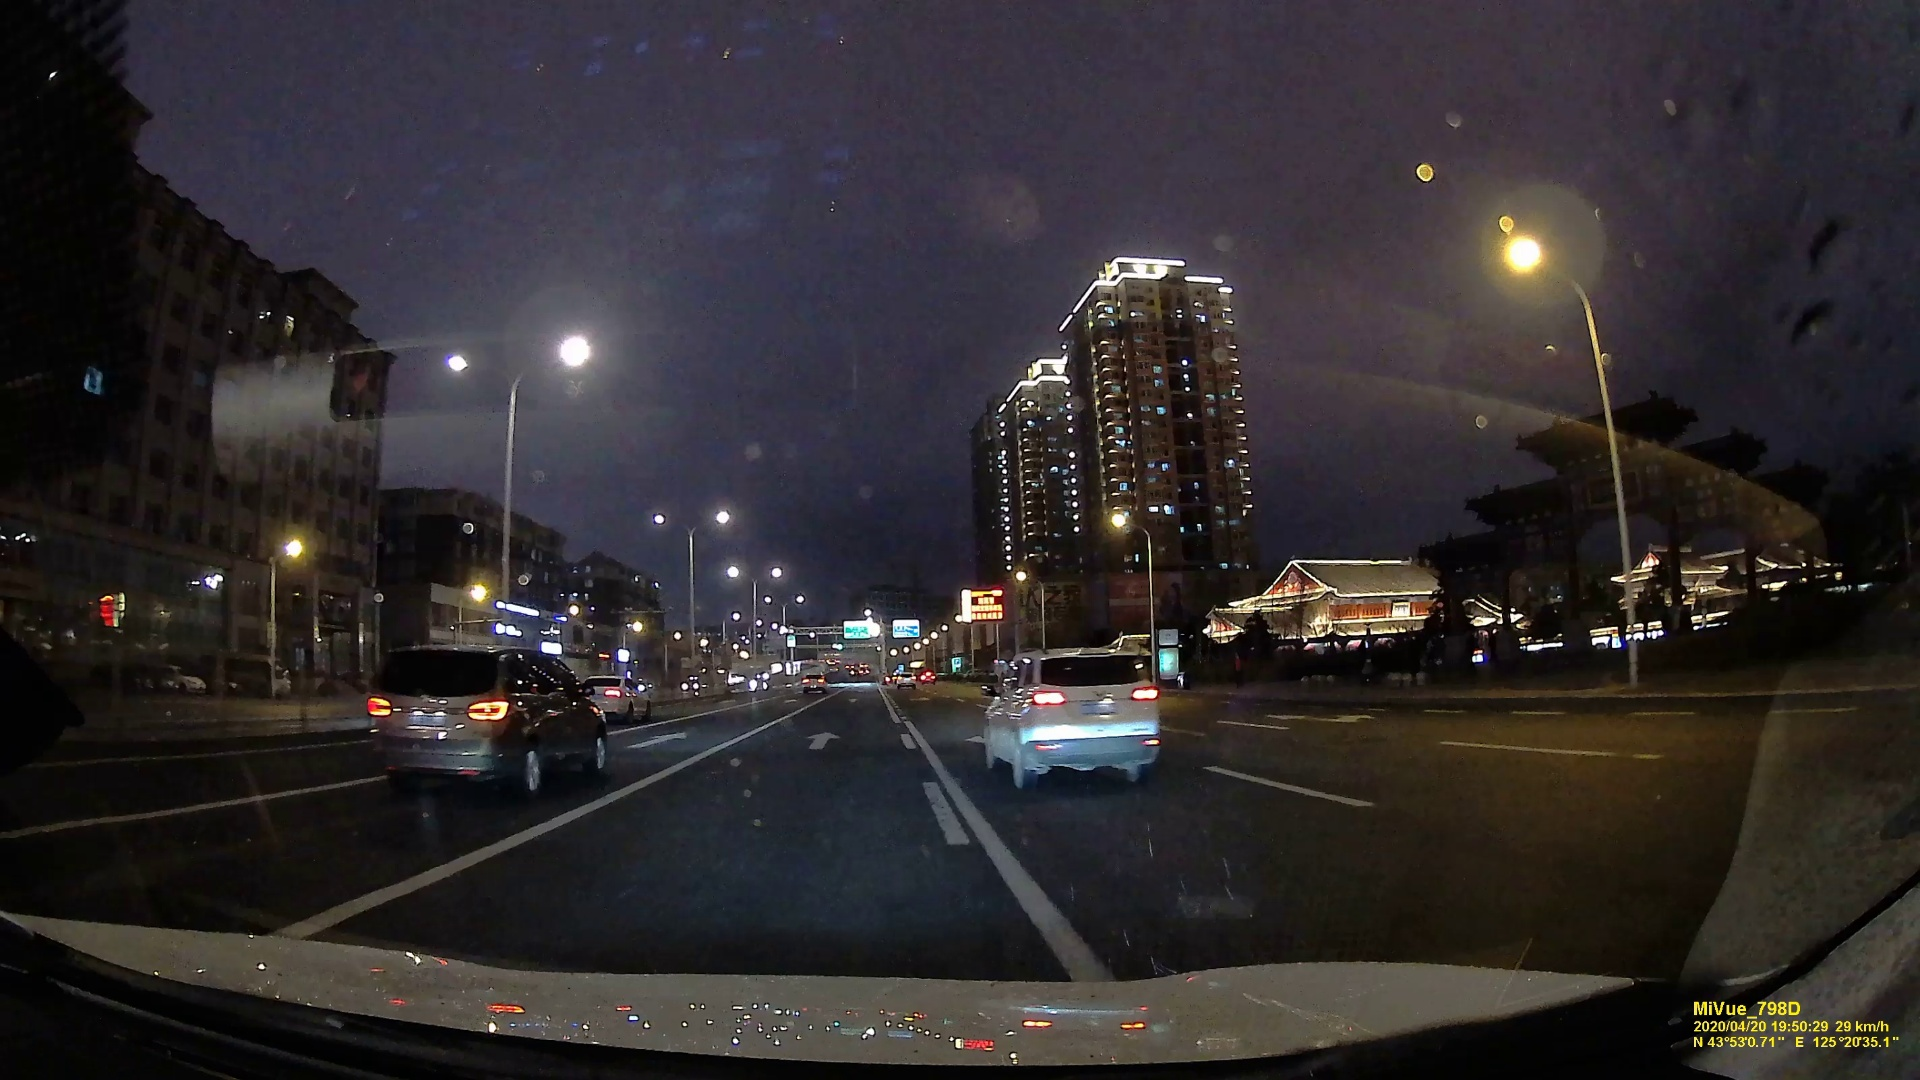traffic_sign: (893, 618, 919, 638), (844, 618, 868, 640)
vehicle: (364, 640, 616, 796), (977, 645, 1164, 789), (584, 676, 651, 721), (803, 673, 828, 694), (897, 671, 916, 690)
